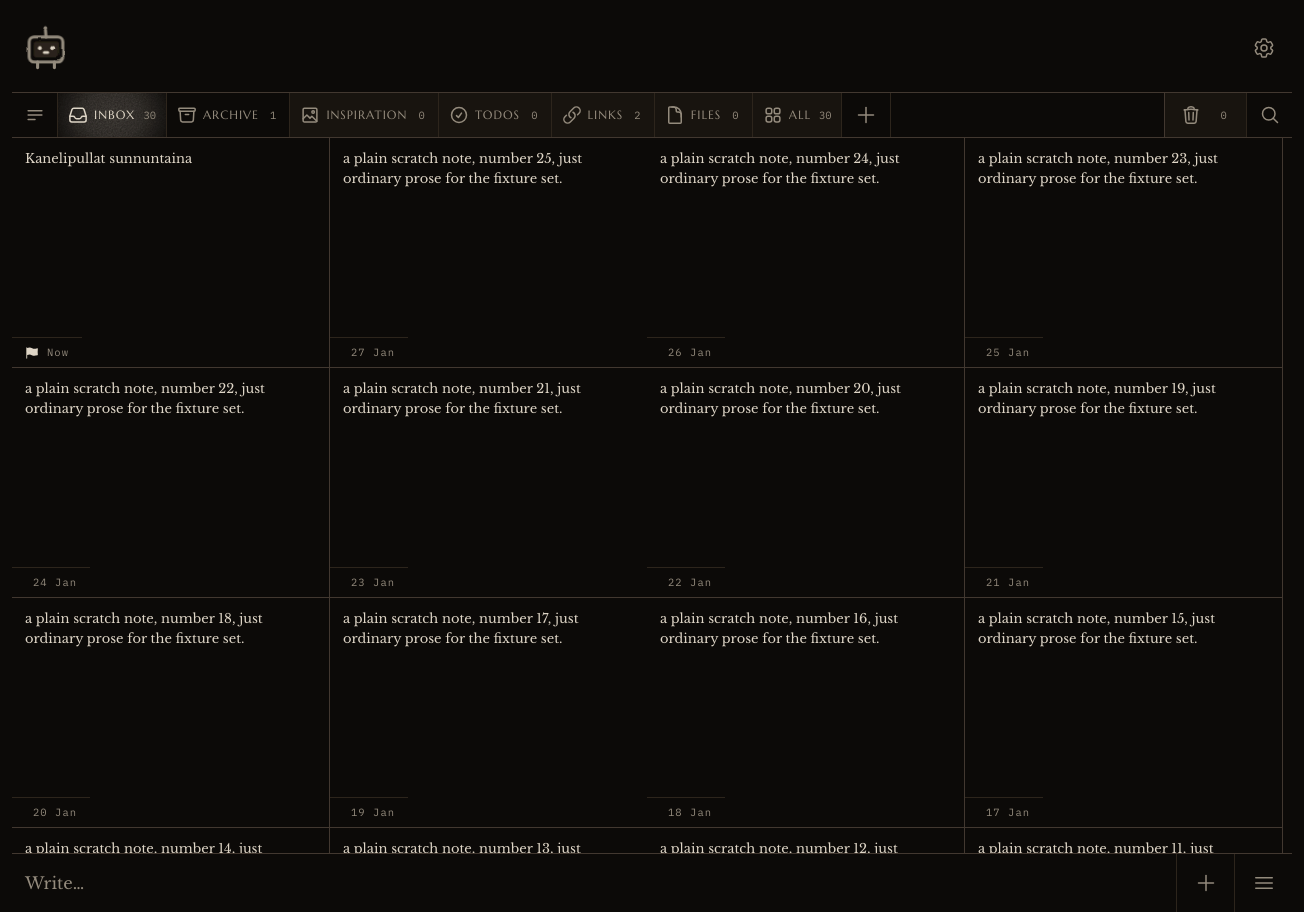
Test: App › answers the keys drawn in the selection's panel while it is open
Right-click the button "Kanelipullat sunnuntaina Now" at (109, 158), box 12,138 -> 330,368
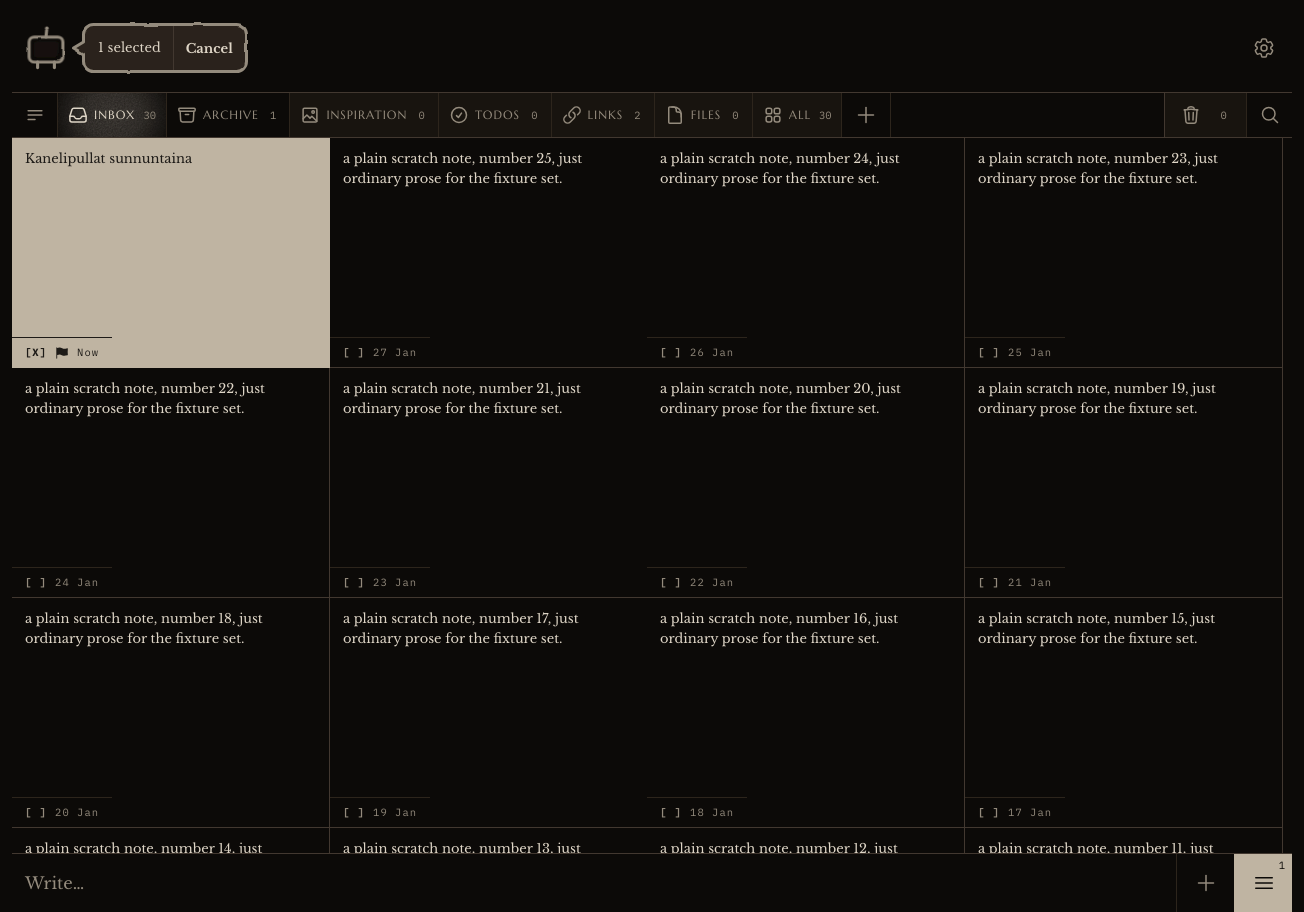
Expected: the text "1 selected" is shown, 98,40 -> 161,56
Click the button "1" at (1263, 883), box 1234,854 -> 1292,911
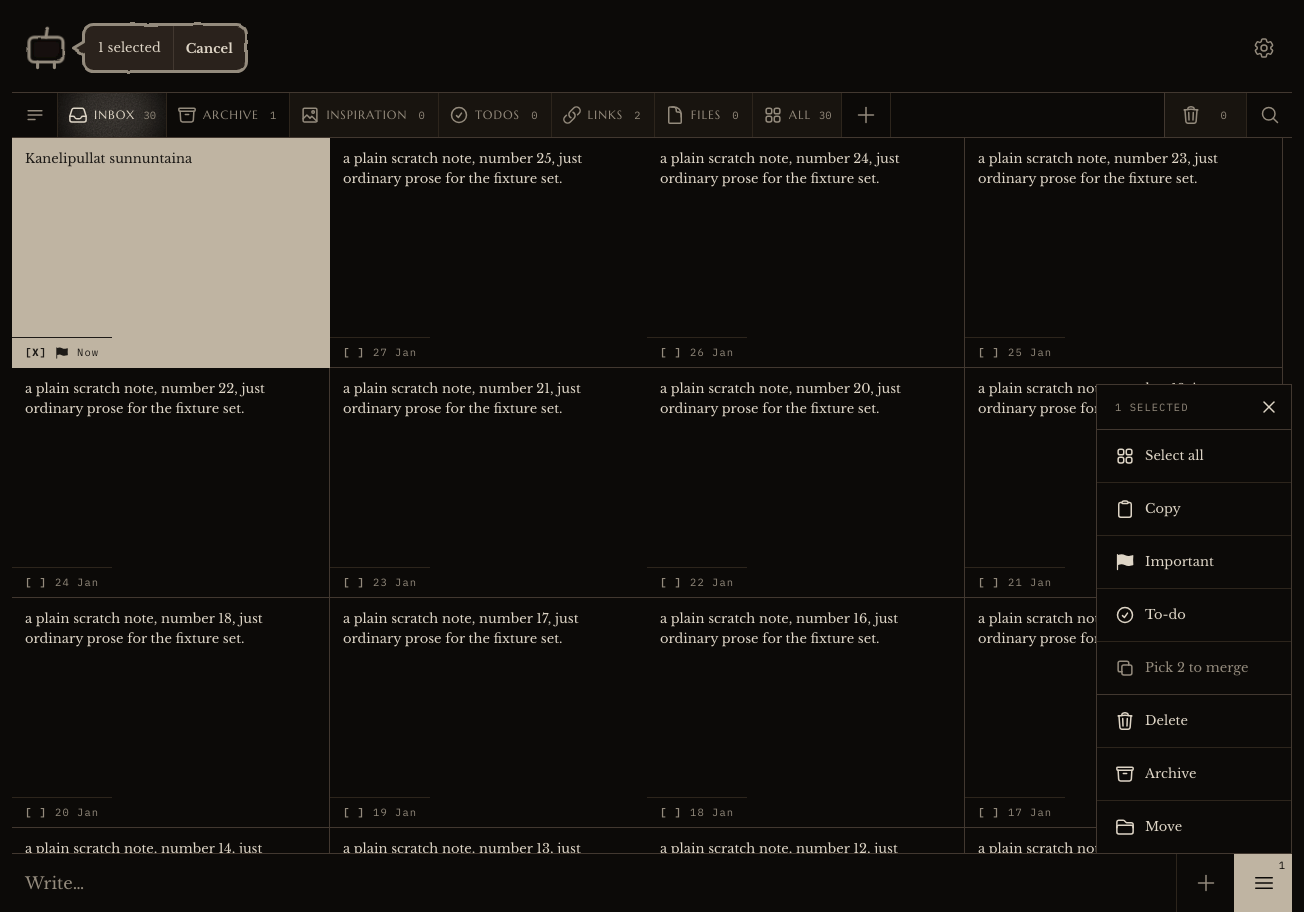
Press m in the element named "Selected notes", box 1096,384 -> 1292,854
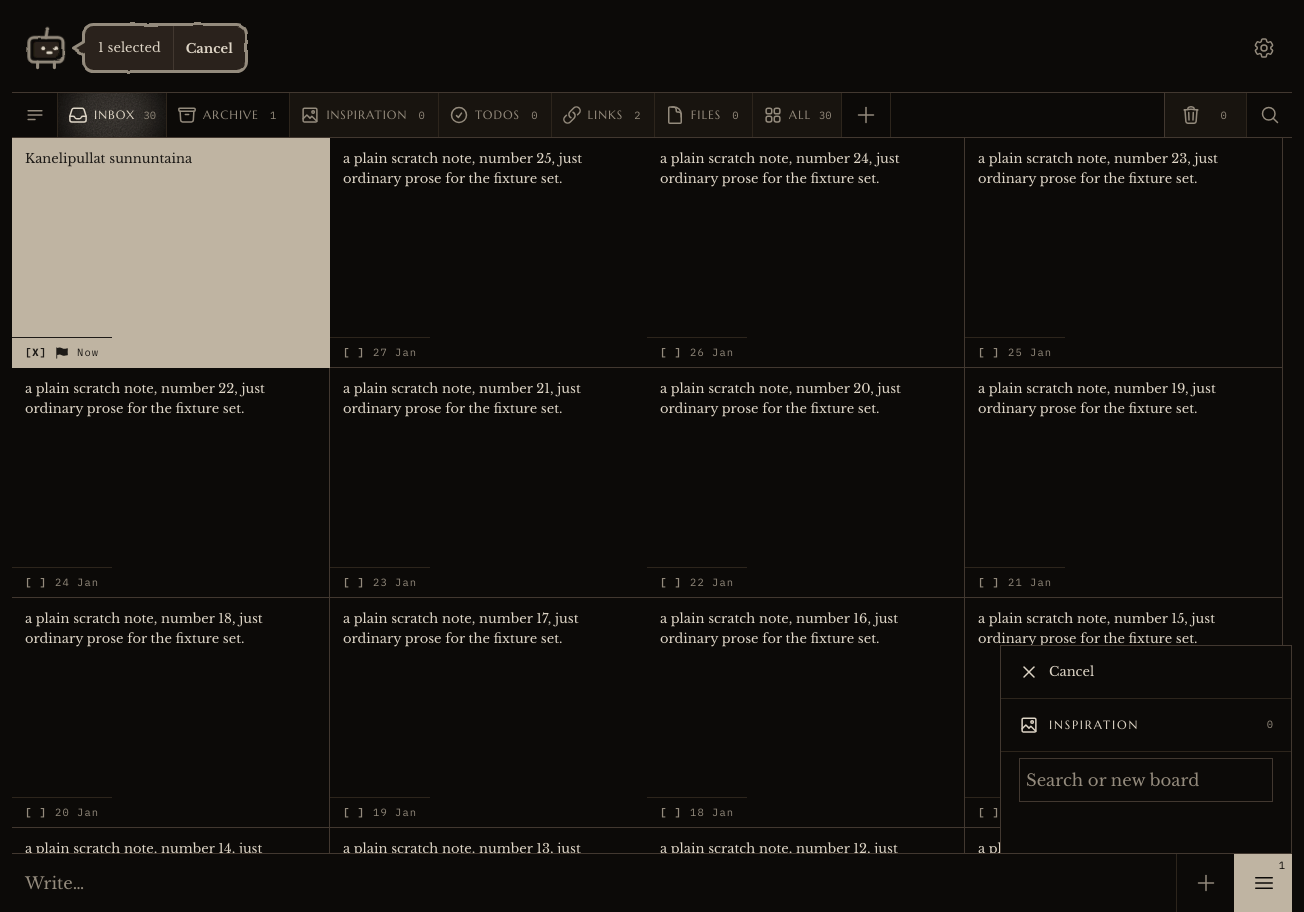
Expected: the element named "Move to a board" is shown, 1000,645 -> 1292,854
Press Escape
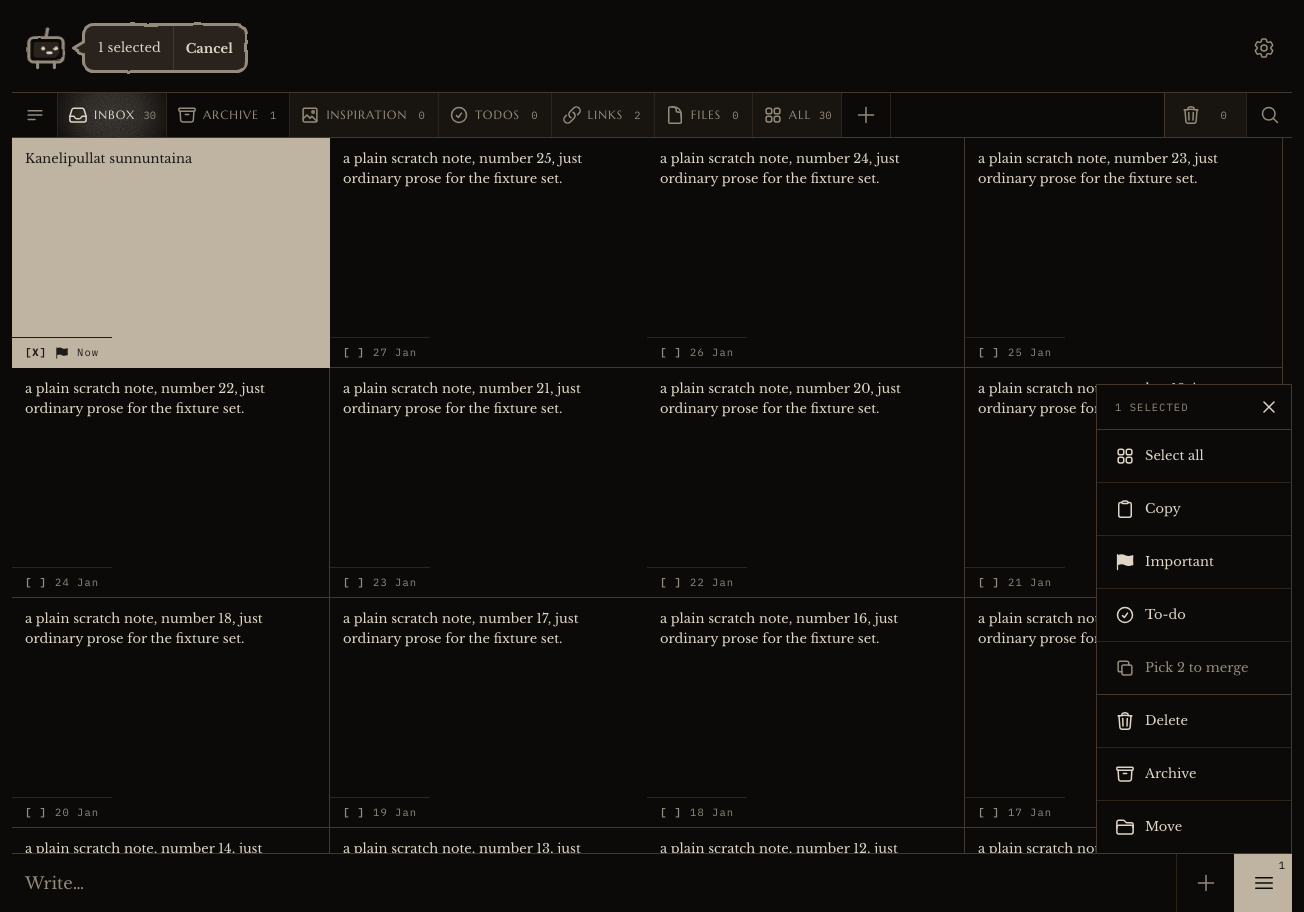
Expected: the element named "Selected notes" is shown
Press f in the element named "Selected notes", box 1096,384 -> 1292,854
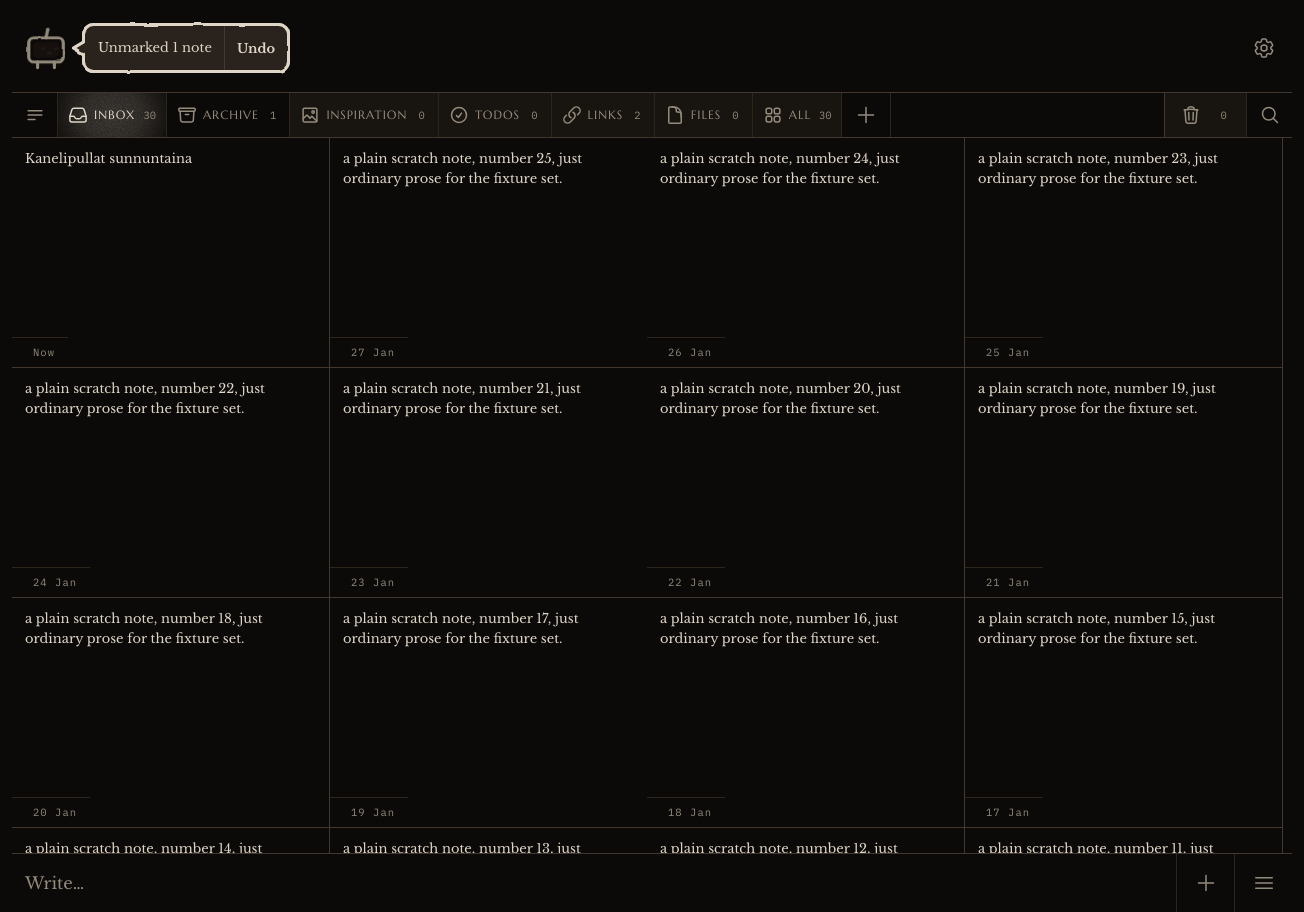
Expected: the text "selected" is gone
